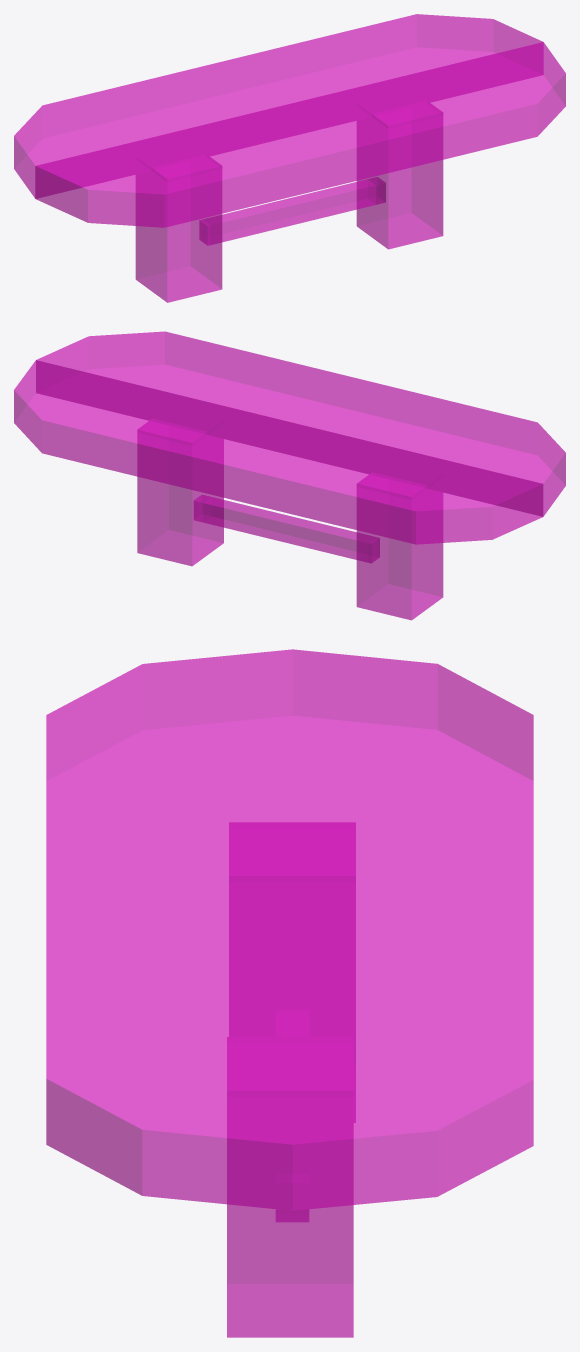
The model's file is SM_Prop_Poker_Table_01_Collision.fbx.
3 renders of one model, top to bottom at view 1: azimuth 30°, elevation 25°; view 2: azimuth 150°, elevation 25°; view 3: azimuth 270°, elevation 25°, orthographic. The views are drawn at different scales.
Visible parts, largest first — view 1: SM_Prop_Poker_Table_01_Collision; view 2: SM_Prop_Poker_Table_01_Collision; view 3: SM_Prop_Poker_Table_01_Collision.
Part boxes in pixels (x1=…): SM_Prop_Poker_Table_01_Collision: x1=14, y1=14, x2=565, y2=302; SM_Prop_Poker_Table_01_Collision: x1=14, y1=331, x2=565, y2=620; SM_Prop_Poker_Table_01_Collision: x1=46, y1=649, x2=533, y2=1337.
Size of the model in its own units: 336 by 96.97 by 140.
